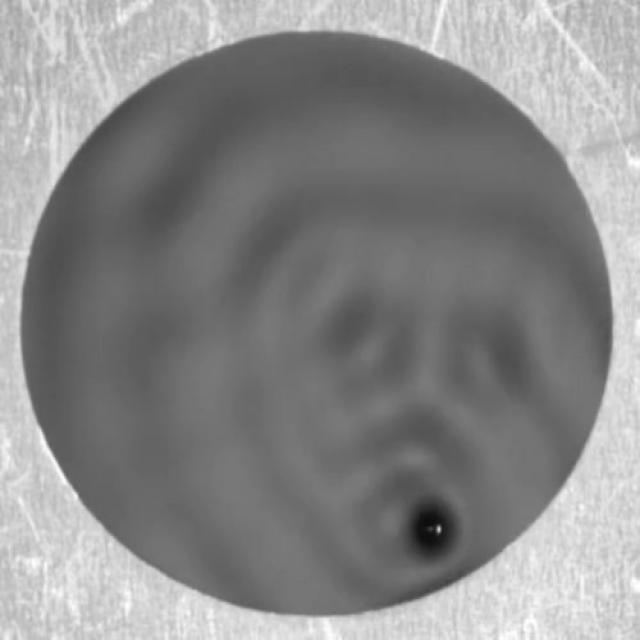droplet: (419, 515, 449, 549)
